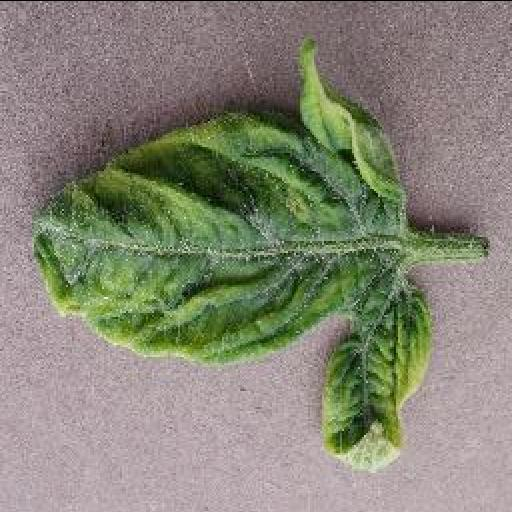disease_tomato: (30, 38, 430, 472)
